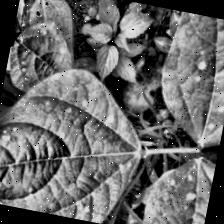Bean Rust: (0, 56, 159, 224), (147, 9, 224, 151), (7, 17, 78, 97), (142, 148, 216, 224), (13, 0, 40, 38)
